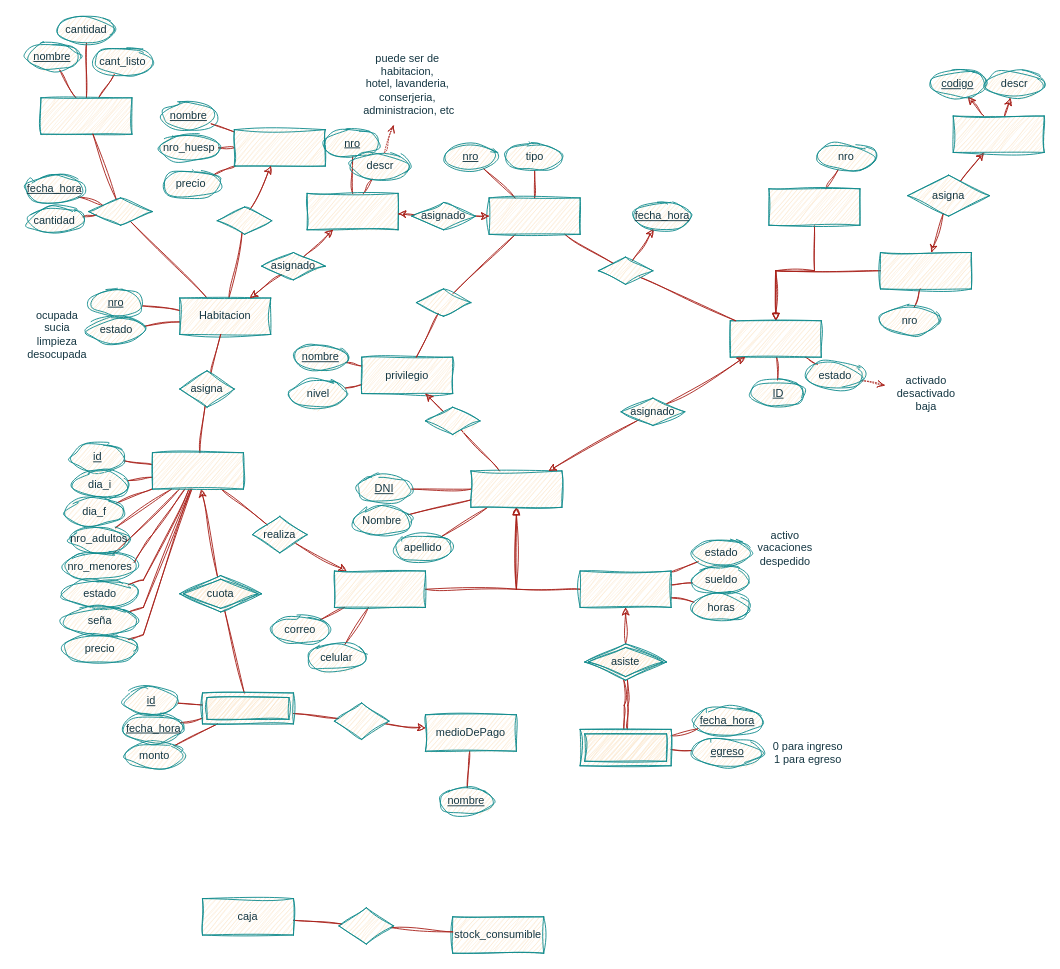
Some shapes in this 1060 by 969 pixel diagram are drawn without their labels. Each missing label, with the centre of its shape:
acepta: the point at 443,302
Asistencia: the point at 625,747
carga: the point at 366,925
consume: the point at 120,211
dispositivo: the point at 998,133
es: the point at 244,220
escaner: the point at 534,215
Huesped: the point at 379,588
loguea: the point at 625,270
mediante: the point at 361,720
nfc: the point at 814,206
pago: the point at 247,708
Persona: the point at 516,488
Personal: the point at 625,588
puerta: the point at 352,211
Reserva: the point at 197,470
rfid: the point at 925,270
stock_renovable: the point at 86,115
tiene: the point at 452,420
Tipo_hab: the point at 279,147
token: the point at 775,338
